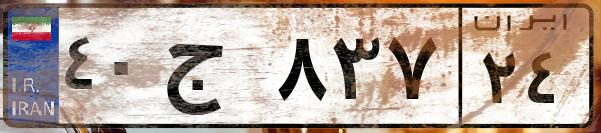0: (110, 28, 158, 98)
2: (475, 38, 525, 113)
3: (330, 28, 385, 110)
4: (57, 26, 110, 100), (525, 38, 570, 115)
7: (385, 28, 445, 110)
8: (270, 28, 330, 110)
ج: (158, 20, 270, 120)
